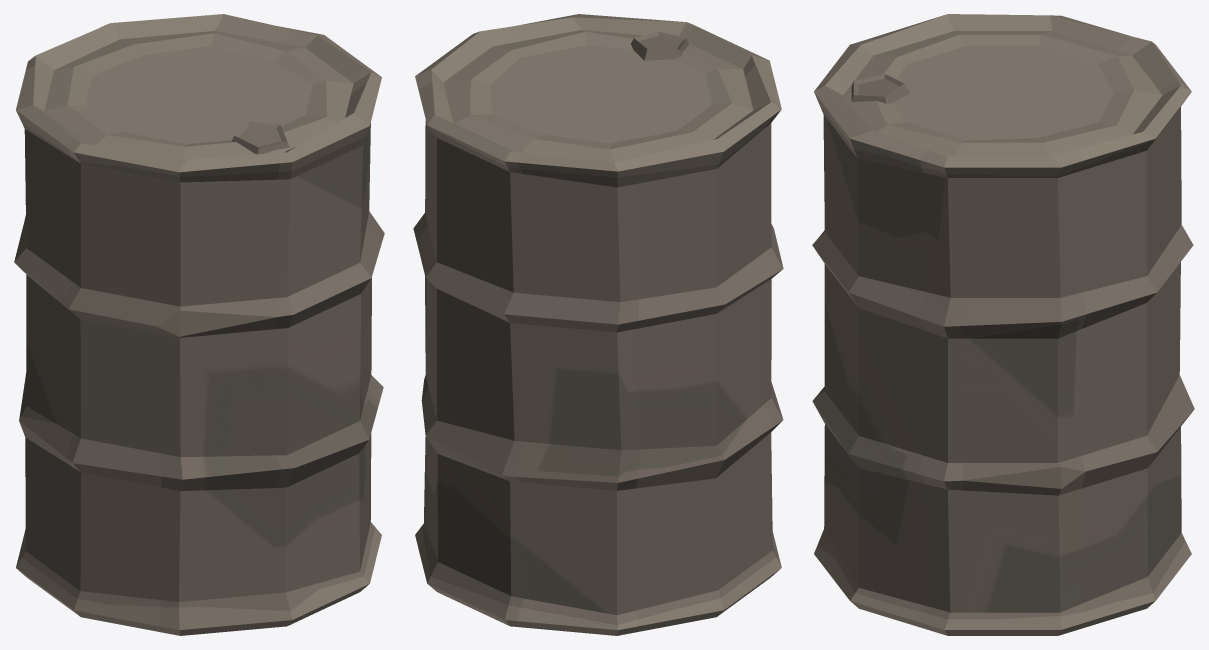
File: SM_Barrel_A_03.fbx
3 renders of one model, left to right at view 1: azimuth 30°, elevation 25°; view 2: azimuth 150°, elevation 25°; view 3: azimuth 270°, elevation 25°, orthographic.
Visible parts, largest first — view 1: SM_Barrel_A_03, SM_Lid_03; view 2: SM_Barrel_A_03, SM_Lid_03; view 3: SM_Barrel_A_03, SM_Lid_03.
Part boxes in pixels (x1,y1,x2,y2): SM_Barrel_A_03: (14, 14, 384, 635); SM_Lid_03: (44, 30, 353, 159); SM_Barrel_A_03: (413, 14, 783, 635); SM_Lid_03: (443, 30, 753, 162); SM_Barrel_A_03: (812, 14, 1194, 635); SM_Lid_03: (843, 31, 1162, 156).
Bounding box in the file's own units: 62.44 × 90.35 × 65.19.
